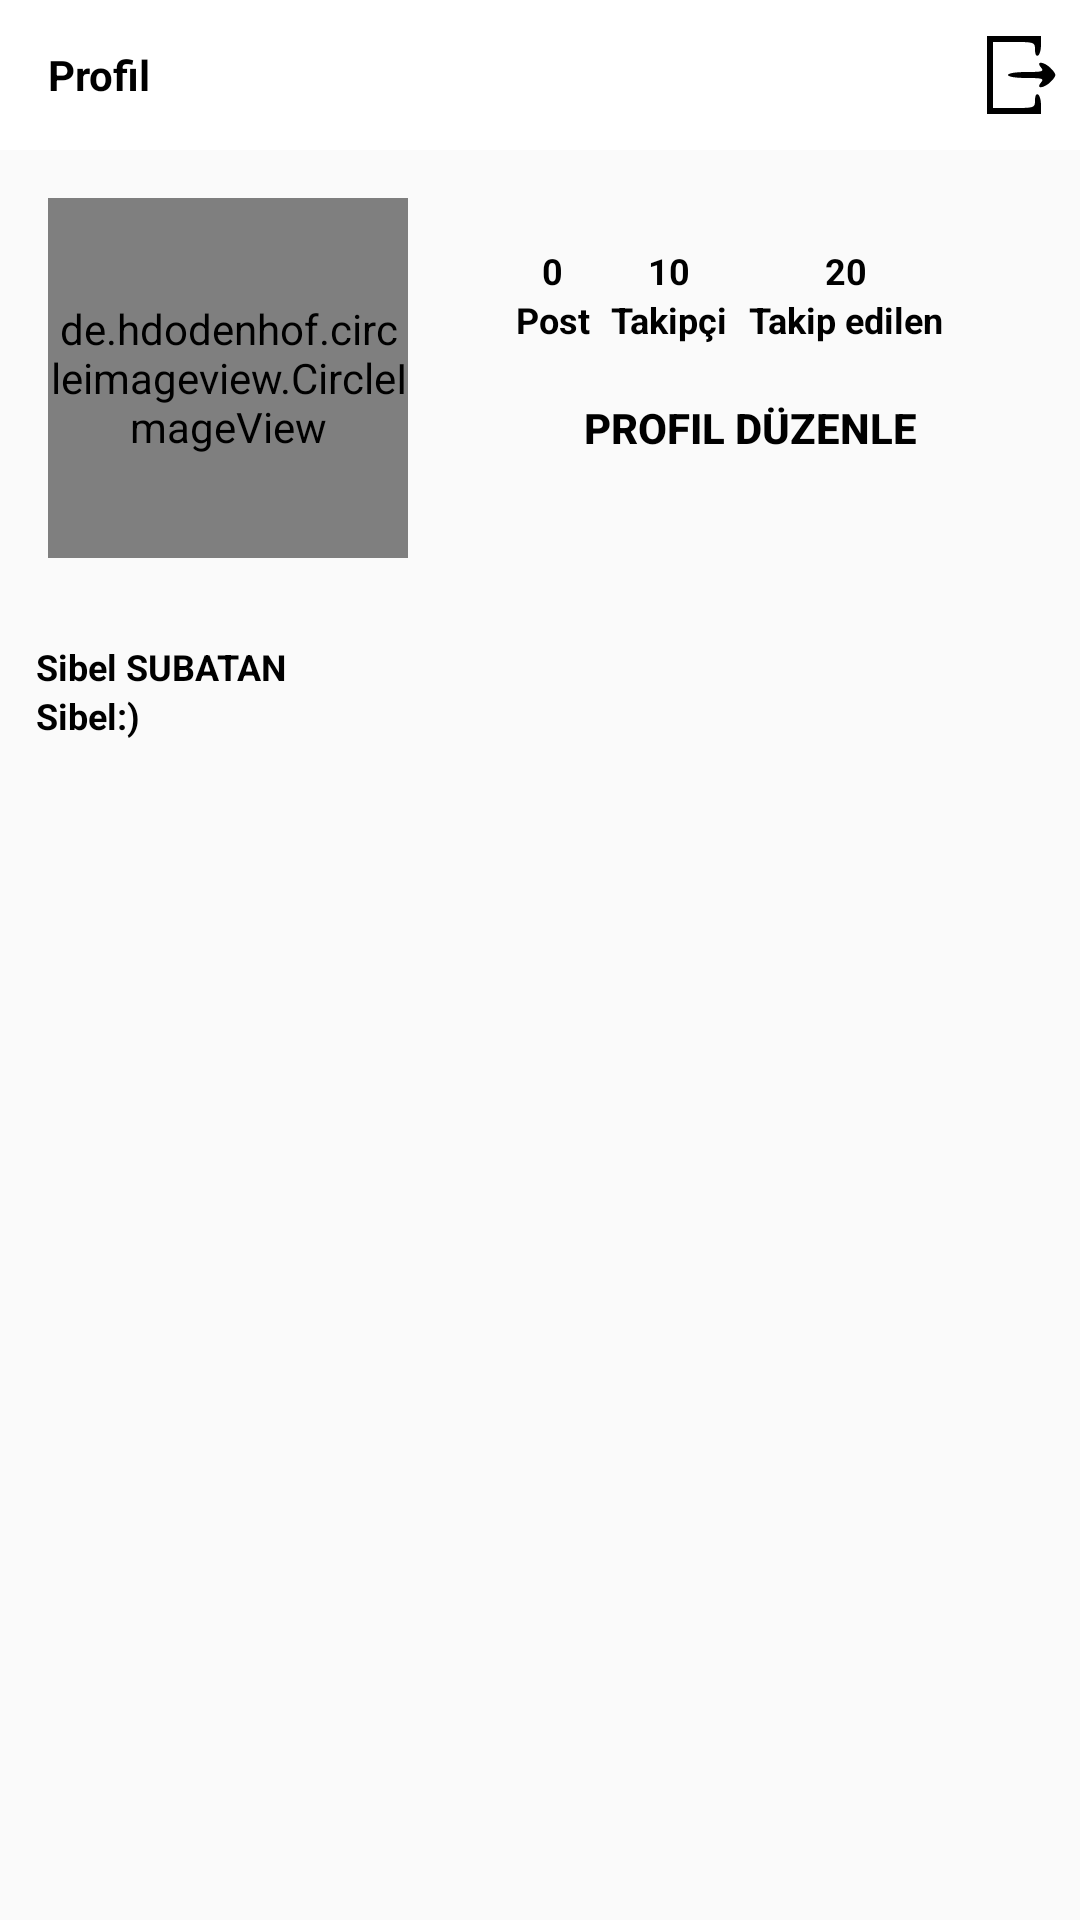

Screen size 1080 × 1920. Icon name, then its center in pixels as (x=x, y=y):
exit: (x=1021, y=75)
